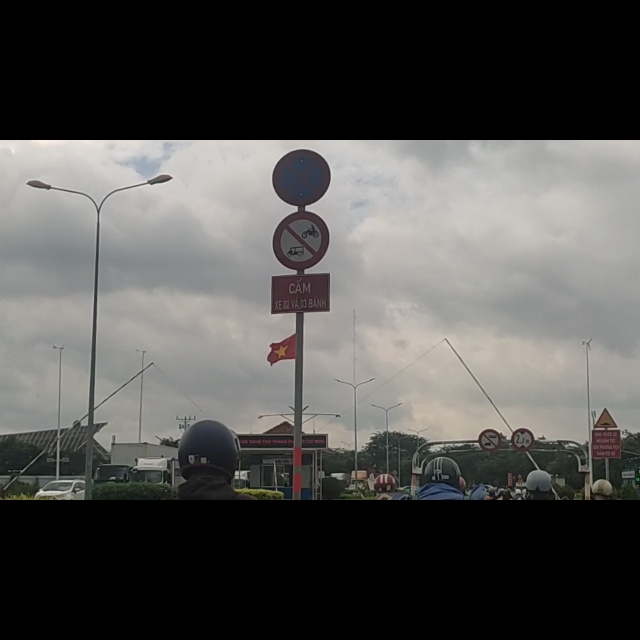bien_cam: (273, 123, 330, 231), (273, 15, 332, 117), (511, 510, 534, 553), (477, 514, 502, 553), (594, 473, 617, 513)
